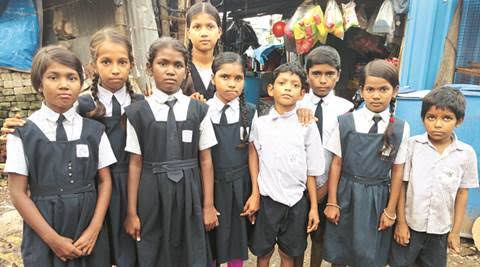student: (26, 47, 84, 112), (82, 30, 140, 92), (355, 56, 402, 115), (142, 40, 188, 94), (181, 3, 231, 51), (301, 48, 344, 101), (263, 60, 306, 111), (210, 47, 246, 102), (423, 88, 463, 137)
